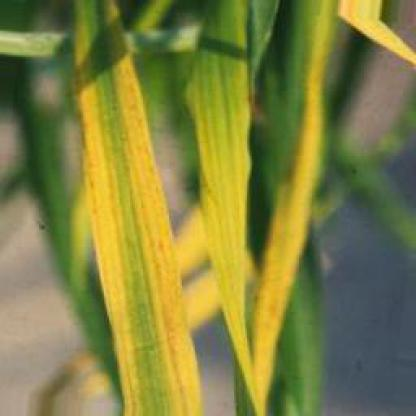Tungro: (68, 3, 200, 414), (255, 3, 354, 413), (199, 8, 258, 416), (344, 4, 416, 63)
